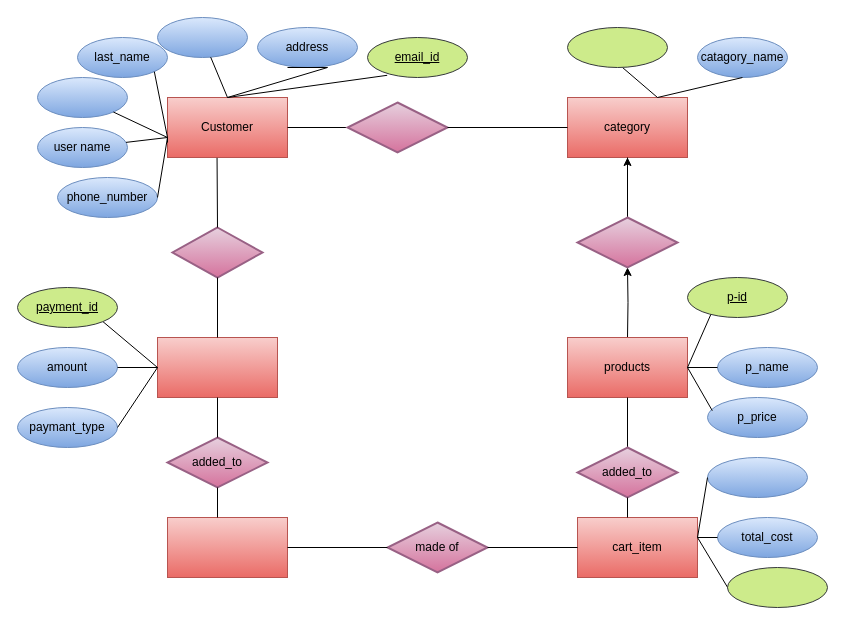
Some shapes in this 845 by 625 pixel diagram are drawn without their labels. The centre of each missing label's shape, as x and y in pixels:
"belongs to" goes at [397,127].
"cart" goes at [227,547].
"cart_id" goes at [777,587].
"catagory_id" goes at [617,47].
"done" goes at [217,252].
"first_name" goes at [82,97].
"has" goes at [627,242].
"password" goes at [202,37].
"payment" goes at [217,367].
"quantity" goes at [757,477].
